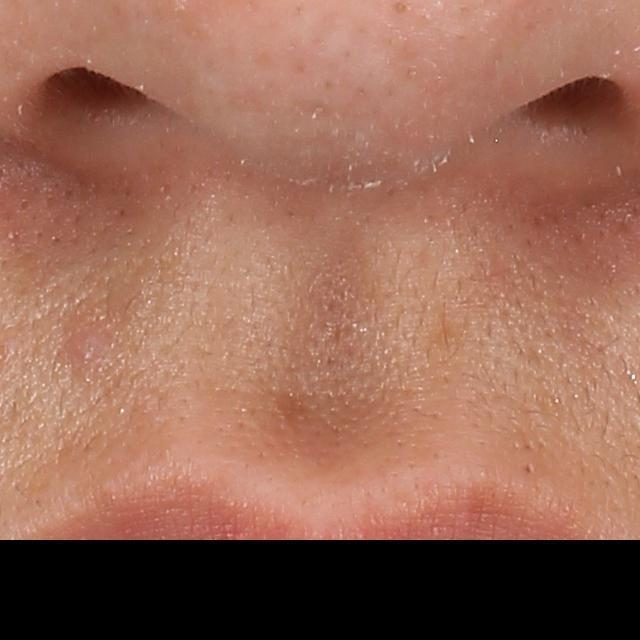comedo: (523, 461, 535, 476)
papule: (71, 329, 104, 363)
